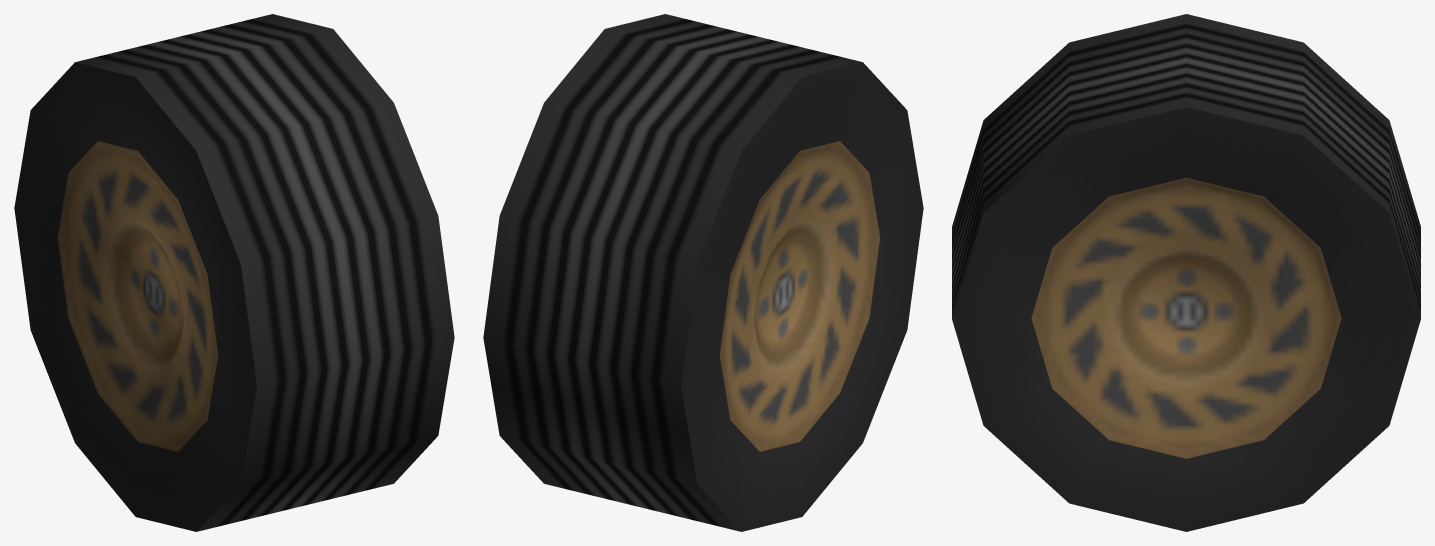
The model's file is TurboCovetRearWheel.fbx.
3 renders of one model, left to right at view 1: azimuth 30°, elevation 25°; view 2: azimuth 150°, elevation 25°; view 3: azimuth 270°, elevation 25°, orthographic. The views are drawn at different scales.
Visible parts, largest first — view 1: WheelCovetA; view 2: WheelCovetA; view 3: WheelCovetA.
Part boxes in pixels (x1,y1,x2,y2): WheelCovetA: [14, 14, 454, 531]; WheelCovetA: [483, 14, 923, 531]; WheelCovetA: [952, 14, 1420, 531].
Bounding box in the file's own units: 0.2939 × 0.6253 × 0.6253.
